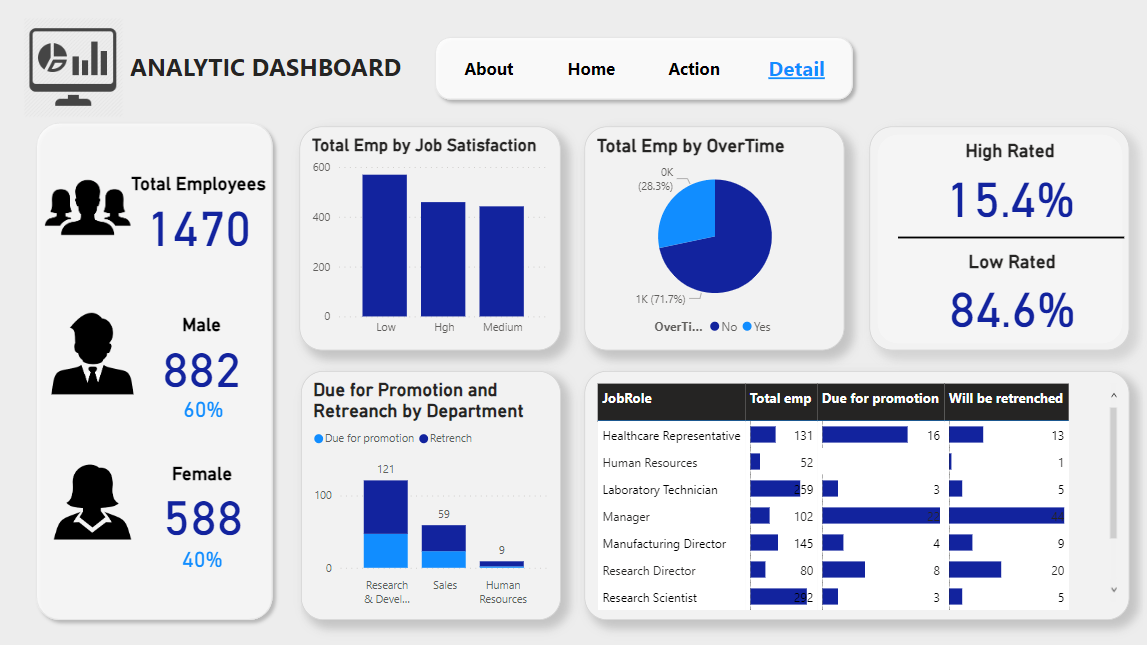

The page's visual inventory and layout, read from the dashboard file:
{"tool":"powerbi","page":{"name":"Detail","canvas":[1280,720],"ordinal":3},"visuals":[{"type":"shape","box":[476.8,33.2,482.2,87.4],"z":0,"group":"g2"},{"type":"shape","box":[33,128.2,280.7,570.6],"z":0,"group":"g1"},{"type":"image","box":[0,15,166.7,121.7],"z":1000},{"type":"card","title":"Total Employees","fields":{"Values":["Sheet 1.Total emp"]},"box":[110.4,192.9,225.9,86.3],"z":1000,"group":"g1"},{"type":"card","title":"Male","fields":{"Values":["Sheet 1.male_count"]},"box":[149.8,350.3,152.6,87.2],"z":2000,"group":"g1"},{"type":"columnChart","title":"Due for Promotion and Retreanch by Department","fields":{"Category":["sheet 1.Department"],"Y":["Sheet 1.Due for promotion","Sheet 1.Retreanch"]},"box":[336.7,413.3,288.3,276.7],"z":2000},{"type":"textbox","box":[141.7,51.7,340,60],"z":3000},{"type":"card","title":"Female","fields":{"Values":["Sheet 1.Female_count"]},"box":[140.4,515,173.4,87.2],"z":3000,"group":"g1"},{"type":"tableEx","fields":{"Values":["sheet 1.JobRole","All measures.Total emp","All measures.Due for promotion","All measures.Will be retrenched"]},"box":[651.7,413.3,605,276.7],"z":4000},{"type":"clusteredColumnChart","title":"Total Emp by Job Satisfaction","fields":{"Category":["sheet 1.Job satisfaction"],"Y":["All measures.Total emp"]},"box":[335,141.7,290,248.3],"z":5000},{"type":"pieChart","title":"Total Emp by OverTime","fields":{"Y":["Sheet 1.Total emp"],"Series":["sheet 1.OverTime"]},"box":[651.7,141.7,288.3,248.3],"z":6000},{"type":"image","box":[40.6,170.2,118.7,124],"z":6000,"group":"g1"},{"type":"shape","box":[968.3,141.7,288.3,248.3],"z":7000},{"type":"image","box":[13.6,343.8,183.9,101.2],"z":7000,"group":"g1"},{"type":"group","id":"g1","title":"Group 1","box":[13.6,128.2,322.6,570.6],"z":8000},{"type":"image","box":[23.3,511.4,162.9,94.5],"z":8000,"group":"g1"},{"type":"card","title":"High Rated","fields":{"Values":["Sheet 1.% High Rating"]},"box":[1045.8,157.4,158.9,95.4],"z":9000},{"type":"card","fields":{"Values":["Sheet 1.Male %"]},"box":[195.1,416.2,65.9,77.5],"z":9000,"group":"g1"},{"type":"card","title":"Low Rated","fields":{"Values":["Sheet 1.% Low Rating"]},"box":[1042.6,279.7,166.9,92.2],"z":10000},{"type":"card","fields":{"Values":["Sheet 1.Female %"]},"box":[197,602.2,60.3,38.7],"z":10000,"group":"g1"},{"type":"shape","box":[999.7,244.8,251.1,39.7],"z":11000},{"type":"pageNavigator","box":[494.3,52.3,448.2,50.9],"z":12000,"group":"g2"},{"type":"group","id":"g2","title":"Group 2","box":[476.8,33.2,482.2,87.4],"z":12001}]}

Visuals, with their boxes in screenshot pixels (x1, y1, x2, y2), scaled from the page's 1280x720 canvas onto the 1147x645 screenshot:
shape: x1=427 y1=30 x2=859 y2=108
shape: x1=30 y1=115 x2=281 y2=626
image: x1=0 y1=13 x2=149 y2=122
"Total Employees" card: x1=99 y1=173 x2=301 y2=250
"Male" card: x1=134 y1=314 x2=271 y2=392
"Due for Promotion and Retreanch by Department" columnChart: x1=302 y1=370 x2=560 y2=618
textbox: x1=127 y1=46 x2=432 y2=100
"Female" card: x1=126 y1=461 x2=281 y2=539
tableEx - sheet 1.JobRole x All measures.Total emp: x1=584 y1=370 x2=1126 y2=618
"Total Emp by Job Satisfaction" clusteredColumnChart: x1=300 y1=127 x2=560 y2=349
"Total Emp by OverTime" pieChart: x1=584 y1=127 x2=842 y2=349
image: x1=36 y1=152 x2=143 y2=264
shape: x1=868 y1=127 x2=1126 y2=349
image: x1=12 y1=308 x2=177 y2=399
"Group 1" group: x1=12 y1=115 x2=301 y2=626
image: x1=21 y1=458 x2=167 y2=543
"High Rated" card: x1=937 y1=141 x2=1080 y2=226
card - Sheet 1.Male %: x1=175 y1=373 x2=234 y2=442
"Low Rated" card: x1=934 y1=251 x2=1084 y2=333
card - Sheet 1.Female %: x1=177 y1=539 x2=231 y2=574
shape: x1=896 y1=219 x2=1121 y2=255
pageNavigator: x1=443 y1=47 x2=845 y2=92
"Group 2" group: x1=427 y1=30 x2=859 y2=108
